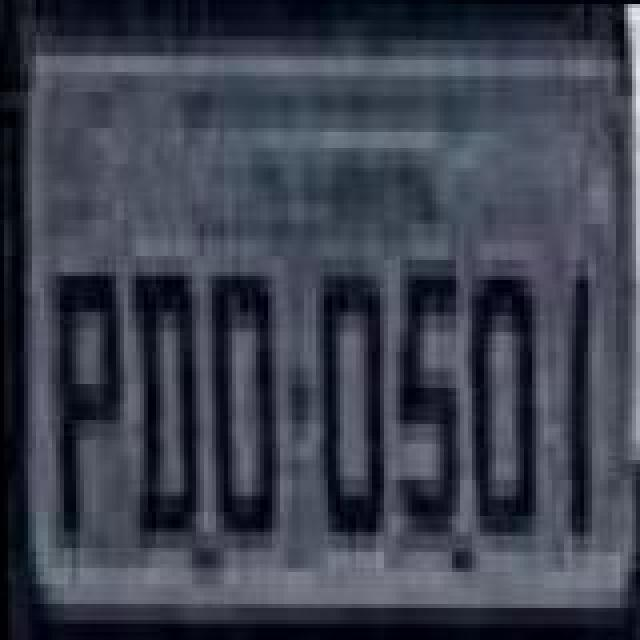1: (564, 258, 596, 550)
5: (386, 248, 462, 540)
D: (126, 254, 202, 546)
O: (206, 256, 282, 548), (462, 266, 538, 538), (318, 266, 386, 538)
P: (48, 256, 128, 568)
